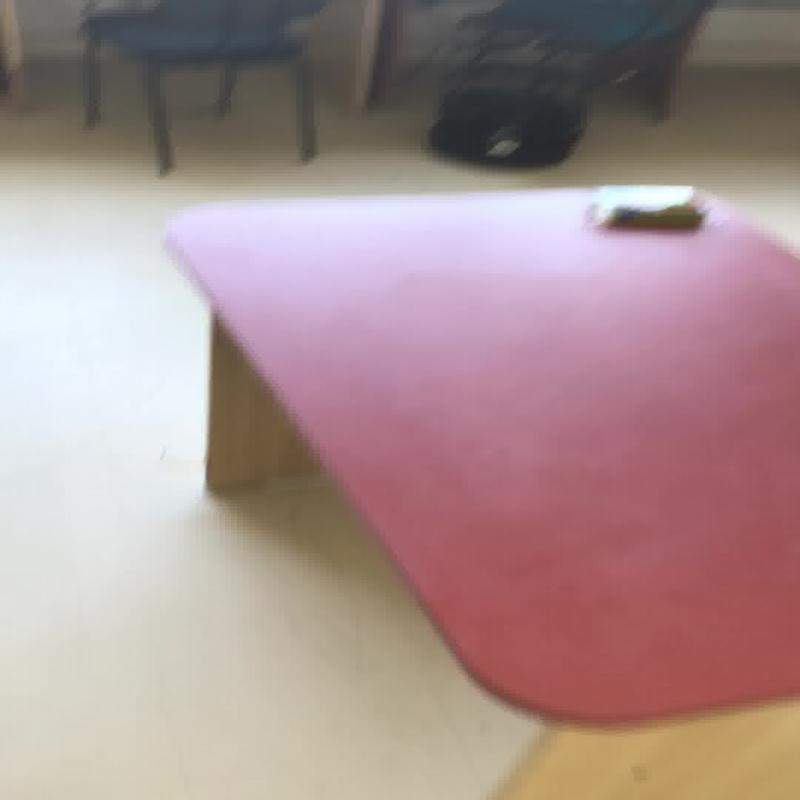sponge: (163, 183, 797, 724), (589, 183, 707, 227)
